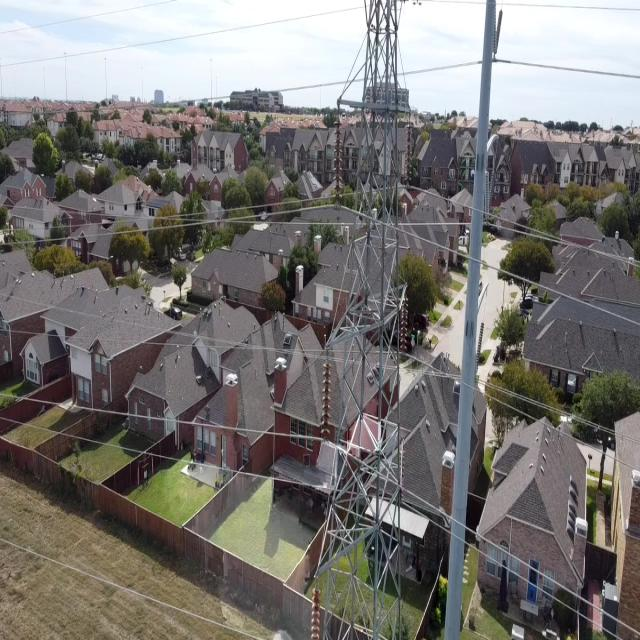杆塔: (307, 0, 428, 640)
正常电缆: (7, 524, 263, 640), (434, 500, 621, 640), (5, 411, 304, 497), (437, 361, 640, 479), (438, 189, 639, 282), (444, 239, 640, 334), (10, 386, 298, 442), (503, 56, 638, 90)
正常绝缘子: (318, 348, 335, 448), (334, 108, 346, 208), (402, 114, 416, 193), (308, 577, 324, 640), (399, 292, 412, 364)
